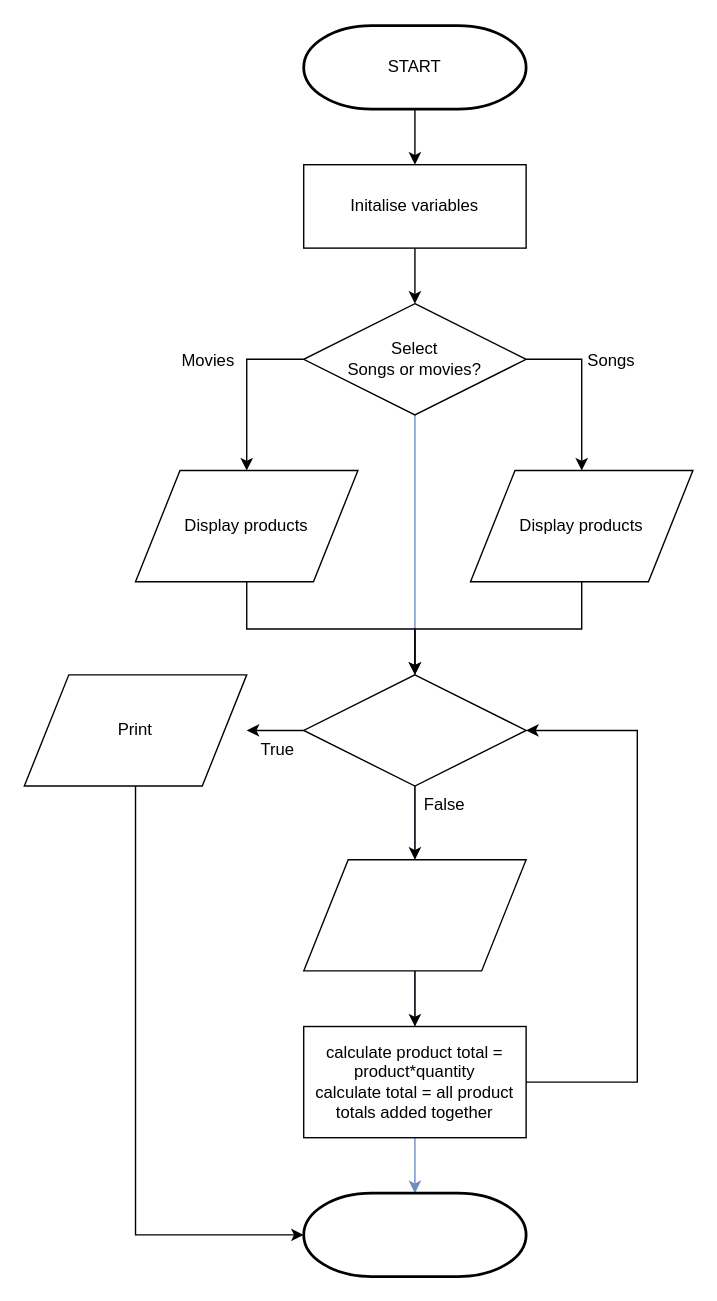
Image size: 717x1301. Some labels were removed from this diagram. The box of each missing label's shape, as (x1, y1, x2, y2) in pixels:
END: (302, 1191, 527, 1277)
ready to print quote?: (302, 673, 526, 786)
Select product add quantity: (302, 858, 526, 971)
